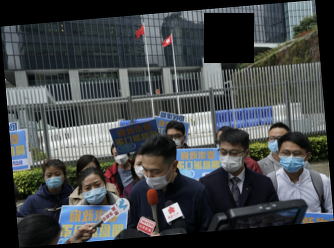with_mask: (143, 162, 171, 192), (279, 147, 306, 173), (218, 145, 244, 172), (82, 179, 108, 205), (269, 133, 288, 157), (44, 169, 64, 189), (167, 131, 184, 149), (114, 150, 129, 167), (133, 159, 145, 179)
